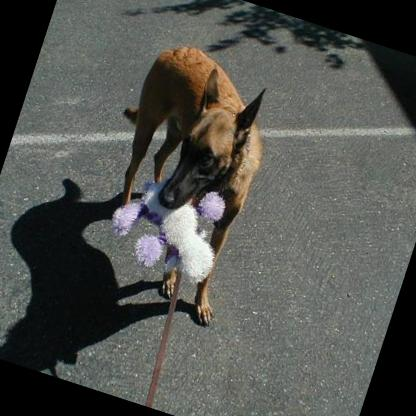malinois: (67, 31, 290, 328)
